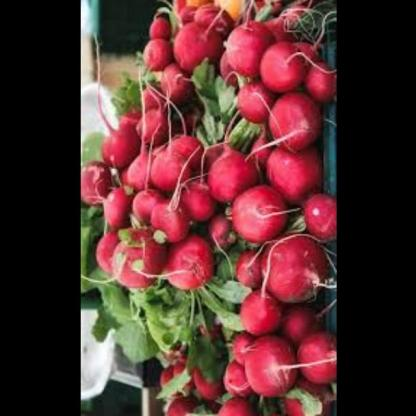rediska: (83, 0, 335, 416)
